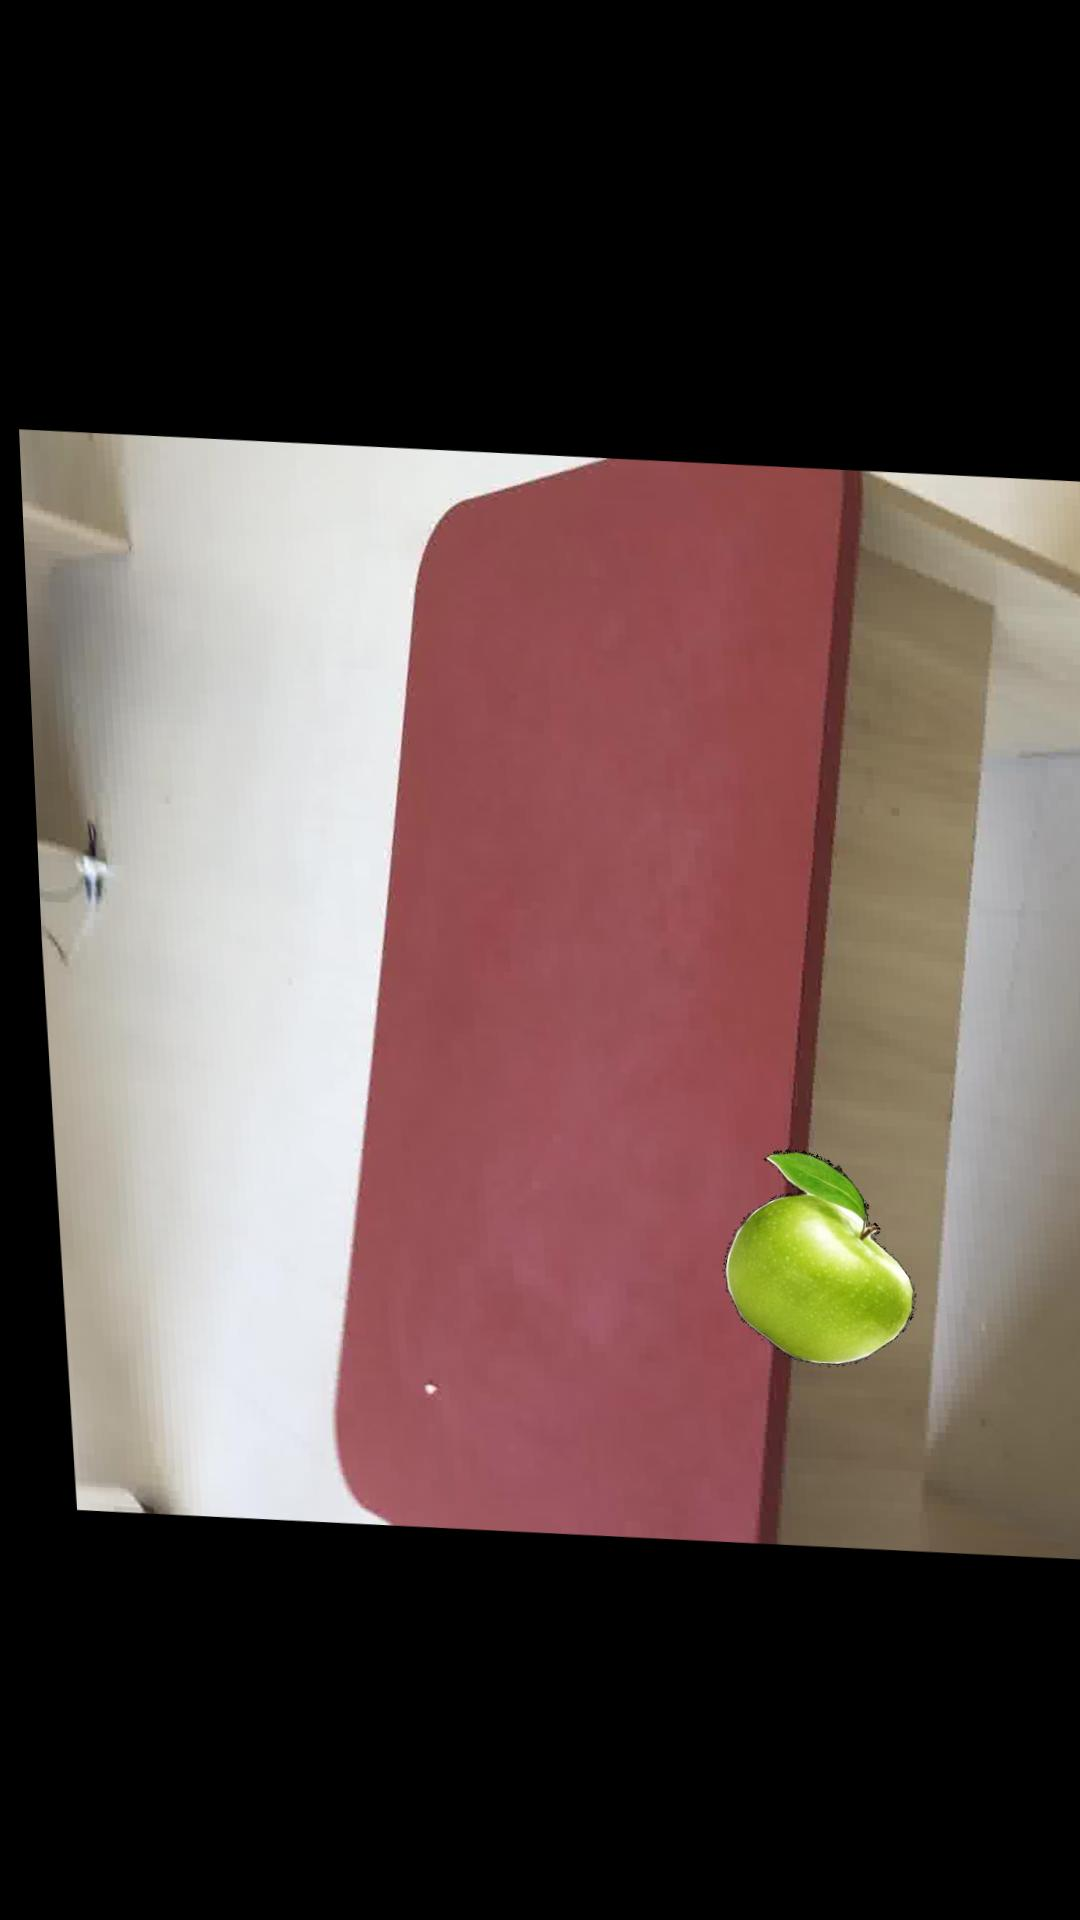green apple: (709, 1139, 899, 1356)
